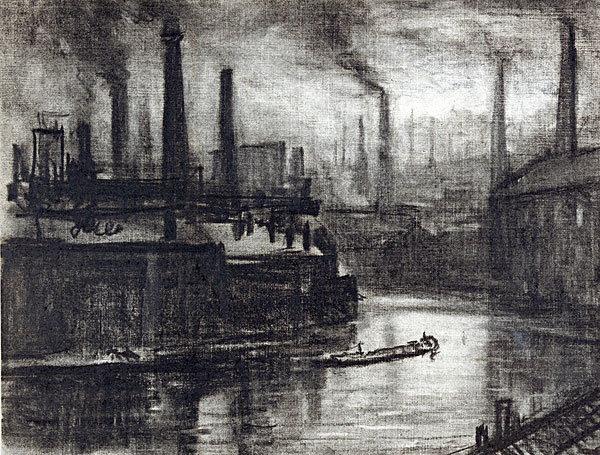dust: (53, 11, 135, 86), (330, 36, 403, 99)
